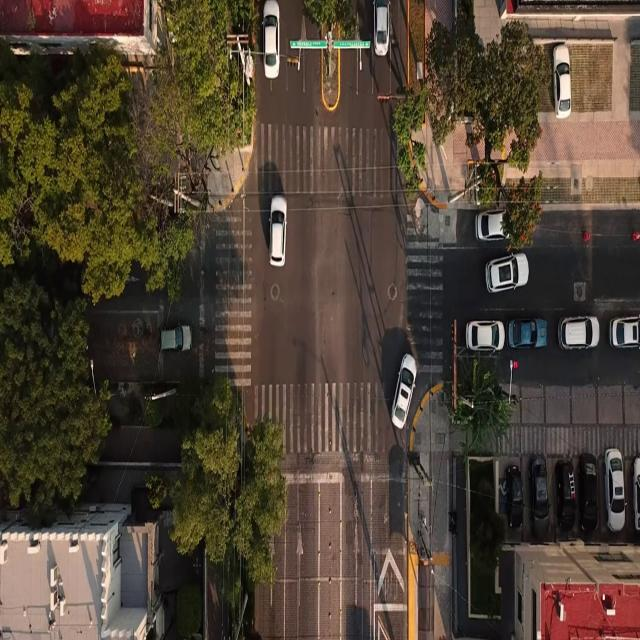car: (391, 354, 417, 428), (604, 448, 626, 532), (529, 456, 549, 540), (486, 254, 528, 292), (579, 454, 597, 531), (556, 459, 575, 530), (558, 317, 599, 349), (263, 0, 279, 79), (553, 44, 570, 118), (507, 319, 547, 349), (466, 320, 504, 351), (270, 195, 286, 266), (505, 465, 523, 527), (610, 316, 640, 348), (476, 209, 505, 240), (374, 0, 389, 55), (160, 326, 191, 351), (632, 457, 640, 531)
